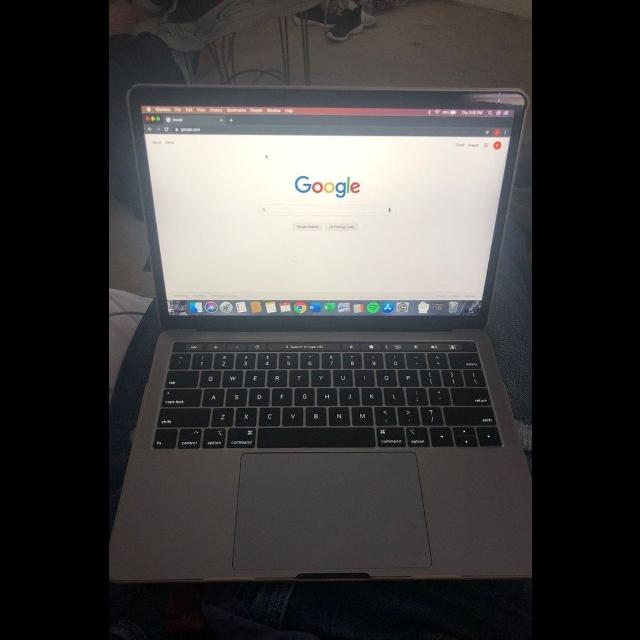laptop: (108, 83, 530, 583)
